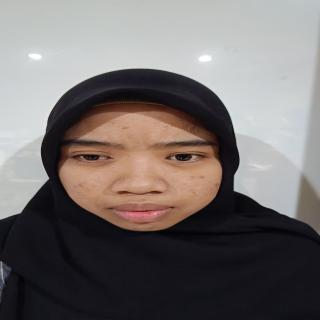Takut: (56, 101, 229, 245)
